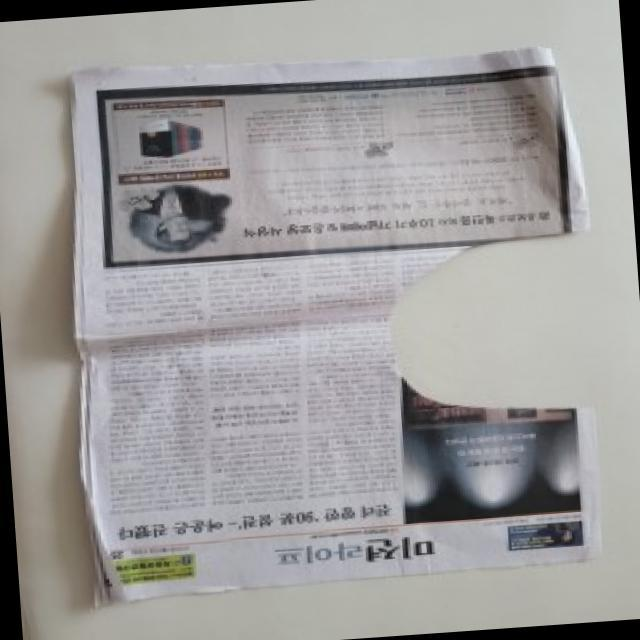reuseable_paper: (72, 50, 592, 596)
